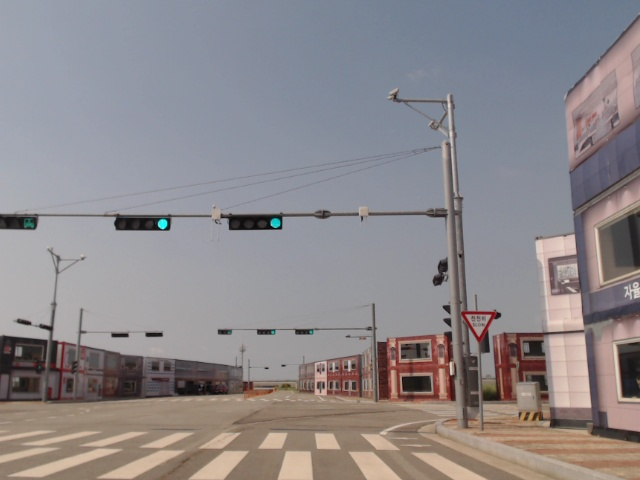straight_green_4: (115, 215, 172, 230), (227, 215, 283, 229), (256, 329, 275, 334), (295, 330, 314, 334)
